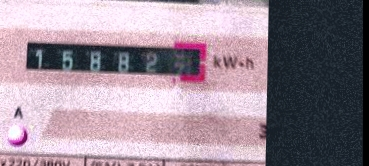1: (31, 46, 46, 68)
2: (142, 50, 159, 74)
5: (59, 47, 74, 72)
7: (172, 58, 184, 75)
8: (115, 50, 130, 74), (87, 49, 101, 72)
screen: (16, 32, 214, 91)
